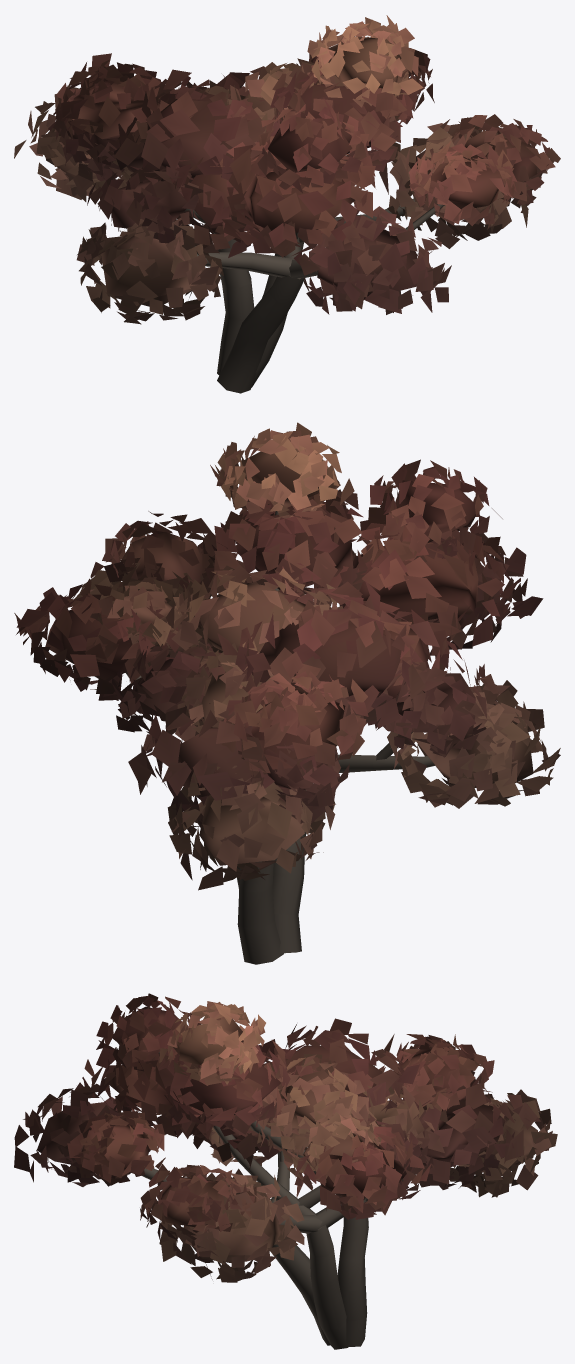
Rendered from nire_a.glb.
3 renders of one model, top to bottom at view 1: azimuth 30°, elevation 25°; view 2: azimuth 150°, elevation 25°; view 3: azimuth 270°, elevation 25°, orthographic. The views are drawn at different scales.
Visible parts, largest first — view 1: NireAHojas, NireACopa, NireATronco; view 2: NireAHojas, NireACopa, NireATronco; view 3: NireAHojas, NireACopa, NireATronco.
Part boxes in pixels (box(x1,y1,x2,y2)): NireAHojas: box(14, 15, 560, 324); NireACopa: box(46, 36, 537, 306); NireATronco: box(173, 198, 444, 393); NireAHojas: box(14, 422, 560, 890); NireACopa: box(45, 448, 533, 865); NireATronco: box(125, 511, 434, 964); NireAHojas: box(14, 993, 557, 1282); NireACopa: box(37, 1006, 537, 1262); NireATronco: box(142, 1052, 415, 1349).
Size of what is drawn, in the model's own units: 3.67 by 3.25 by 4.42.
